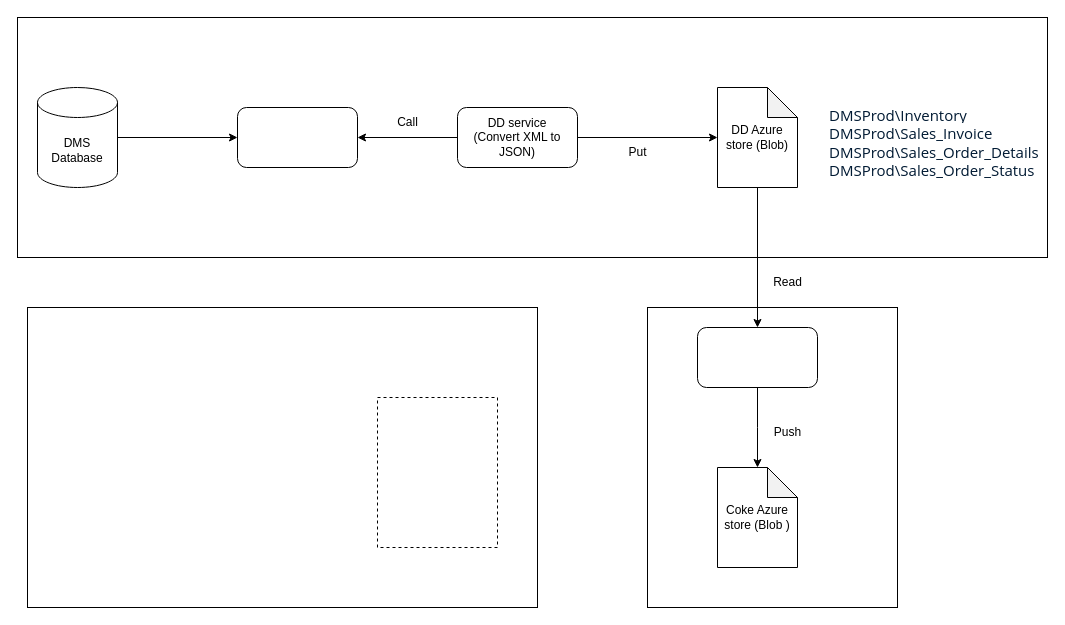
Some shapes in this 1065 by 625 pixel diagram are drawn without their labels. Here are the shapes that lost their labels. From the top down, the centre of each, then its label:
(x=297, y=137): DMS Portal (SOAP API)
(x=757, y=357): MM service (calculate KPI)
